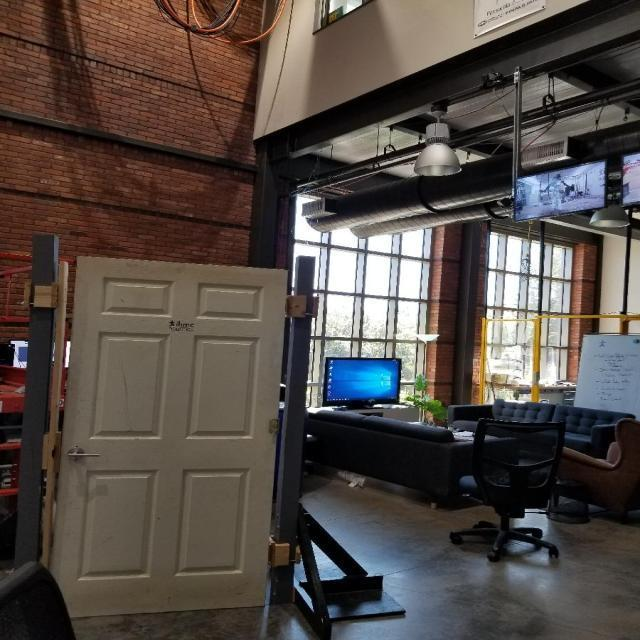door: (43, 254, 294, 622), (61, 448, 105, 460)
